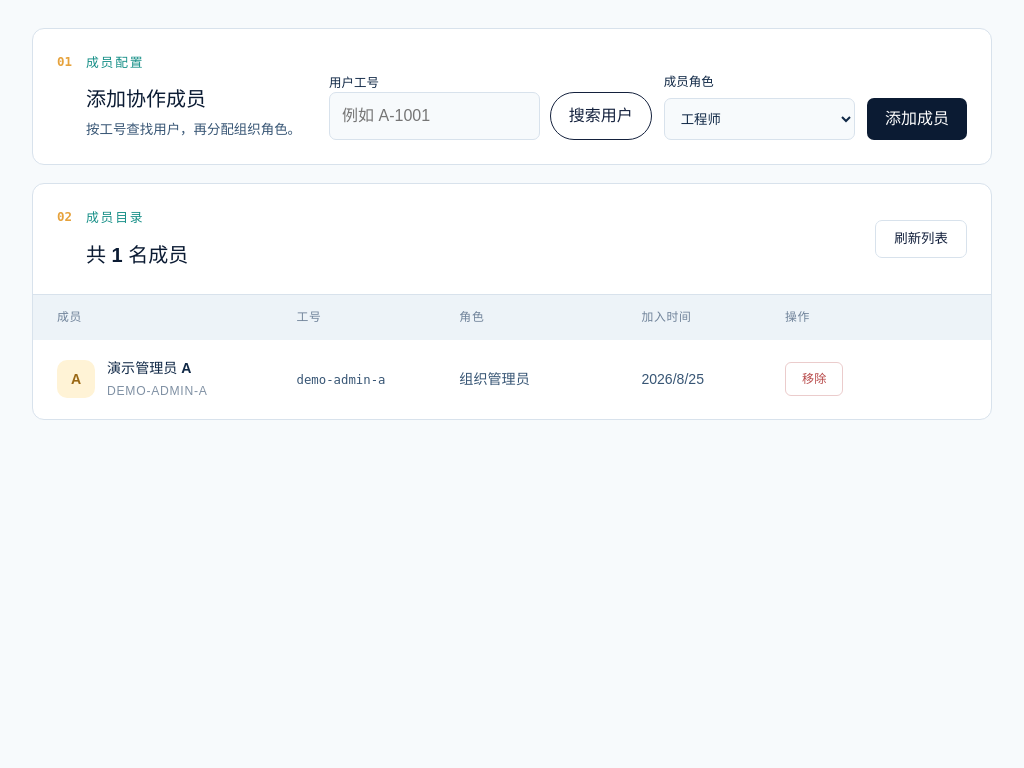
OrganizationMembersPage › shows a dialog when the searched user is already a member
Expected: the text "演示管理员 A" is shown, [107,360,192,376]
Type "A-1001" into the field labelled "用户工号" at (434, 116), box [329,92,540,140]
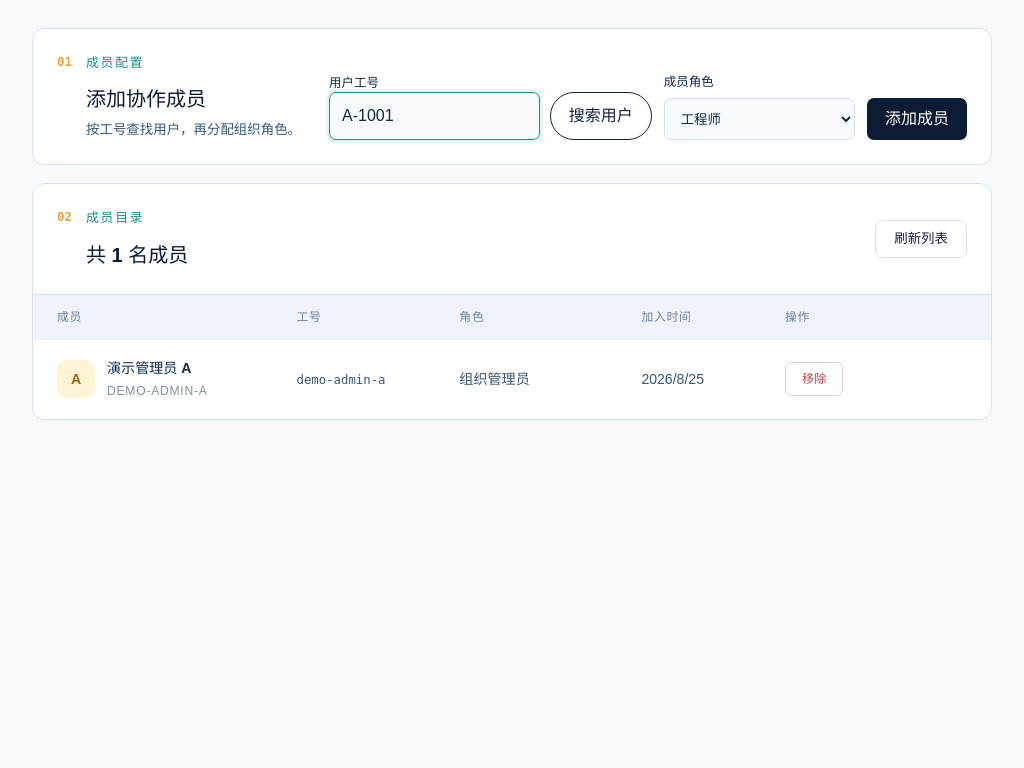
Click the button "搜索用户" at (601, 116), box [550,92,652,140]
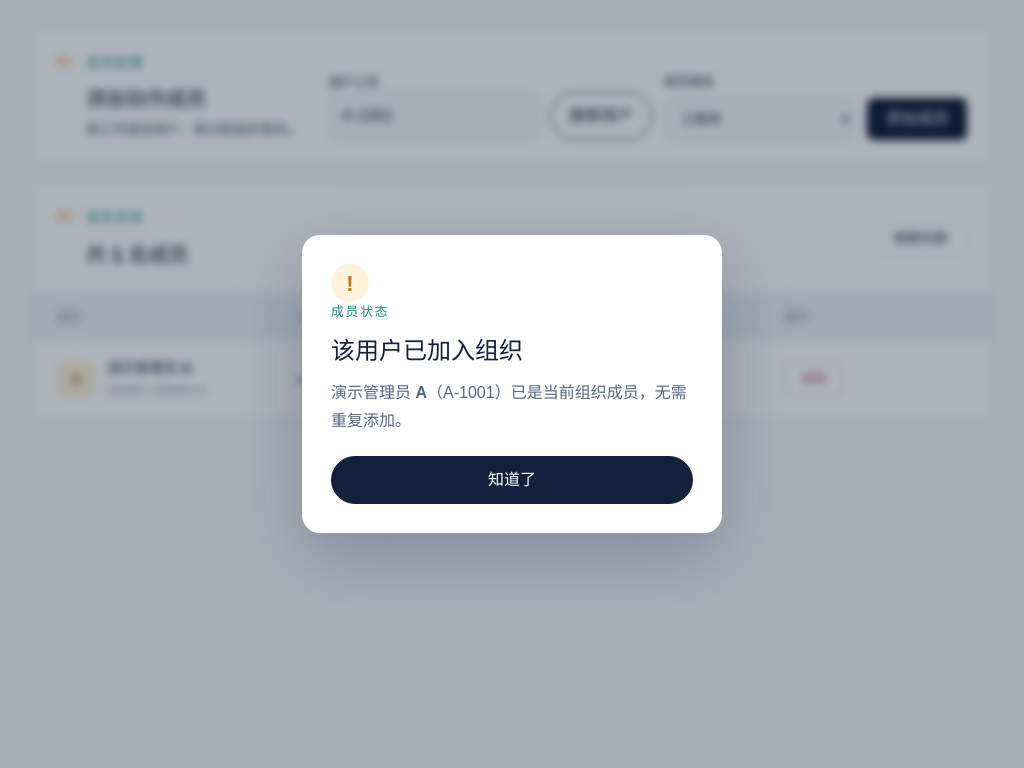
Expected: the dialog shows "演示管理员 A", [331,384,427,401]
Expected: the dialog shows "已是当前组织成员", [331,384,687,429]
